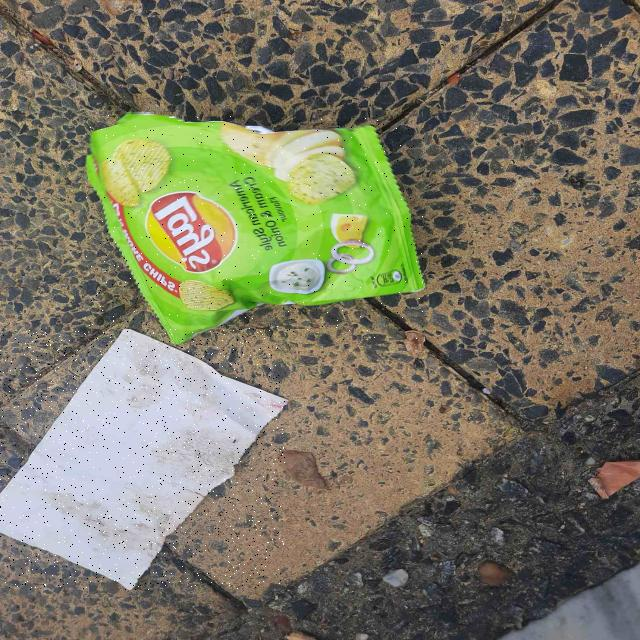paper: (0, 329, 285, 589)
wrapper: (86, 113, 424, 344)
